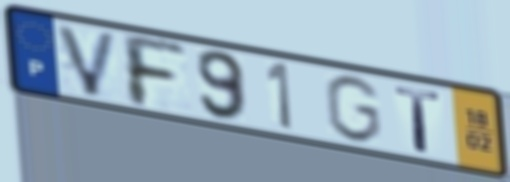1: (264, 62, 296, 134)
9: (193, 49, 249, 124)
F: (117, 29, 191, 111)
G: (321, 73, 384, 145)
T: (391, 83, 445, 155)
V: (53, 21, 122, 100)
